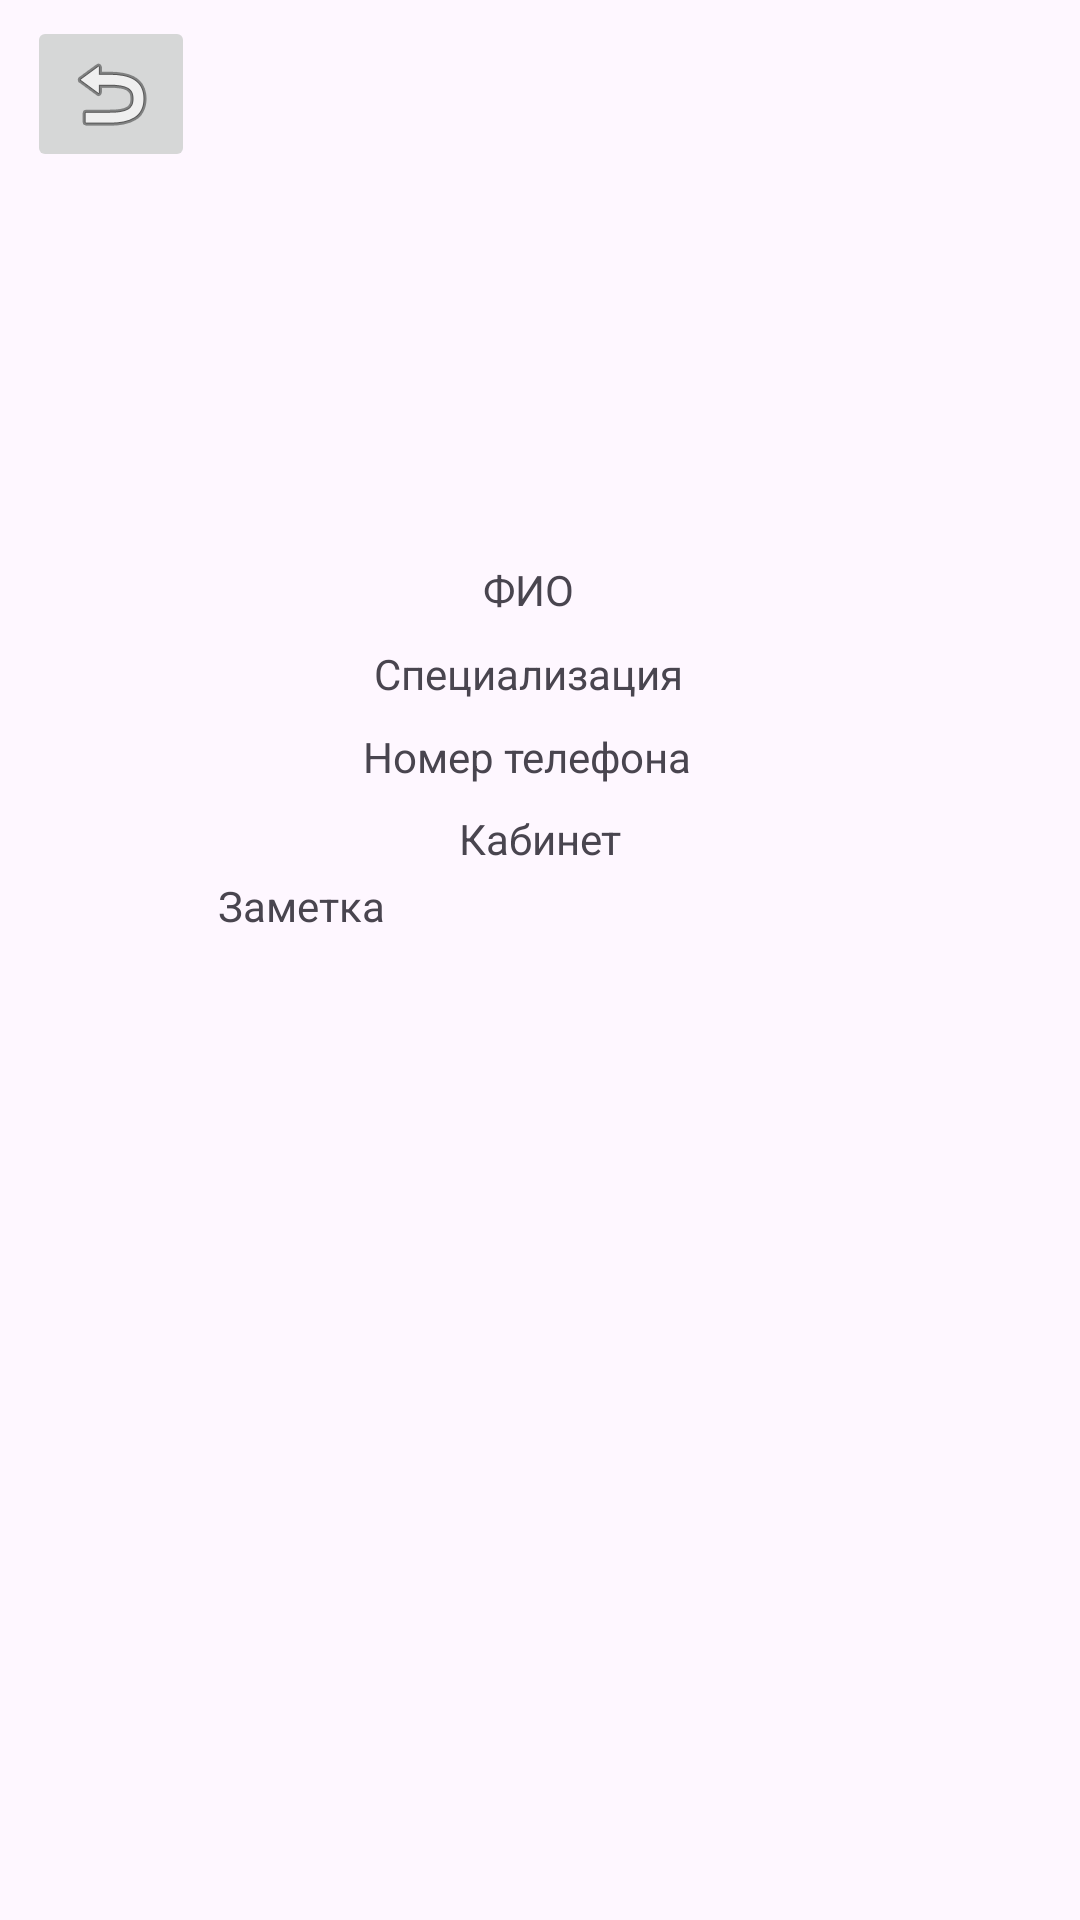

Where icons sit on this 1080px×1920px app screen, as (x1, y1, x2, y2):
revert: (39, 34, 183, 154)
